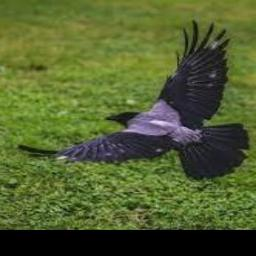Crow: (19, 19, 248, 181)
